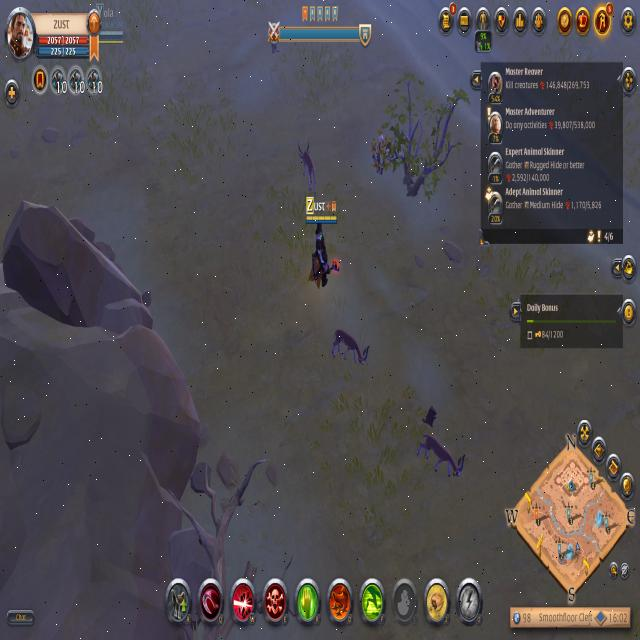deer_alive: (413, 424, 473, 494), (327, 323, 376, 381), (294, 138, 324, 204)
